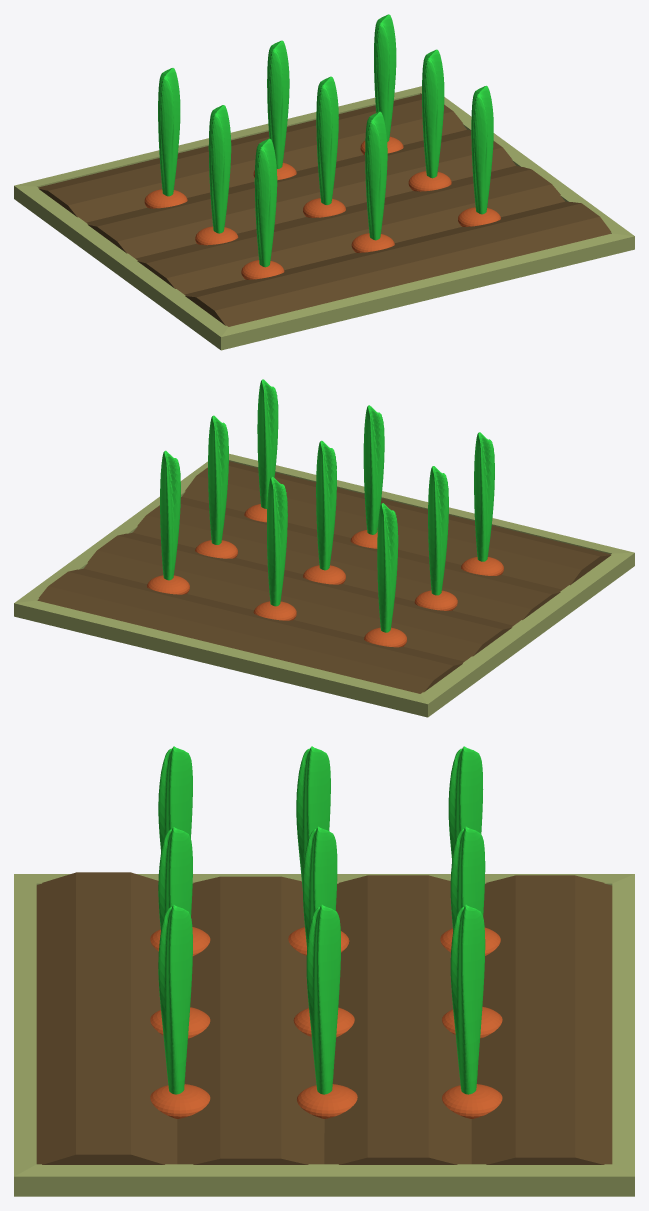
Rendered from морковка в грядке.fbx.
The picture shows the model from 3 angles, top to bottom: view 1: azimuth 30°, elevation 25°; view 2: azimuth 150°, elevation 25°; view 3: azimuth 270°, elevation 25°; orthographic projection. The views are drawn at different scales.
Visible parts, largest first — view 1: Cube, Cube.001, Sphere.009, Sphere.010, Sphere.001, Sphere.017, Sphere.006, Sphere.014, Sphere.013, Sphere.002, Sphere.005, Sphere.007 (+6 smaller); view 2: Cube, Cube.001, Sphere.017, Sphere.010, Sphere.001, Sphere.005, Sphere.006, Sphere.013, Sphere.014, Sphere.002, Sphere.009, Sphere.015 (+6 smaller); view 3: Cube, Cube.001, Sphere.005, Sphere.009, Sphere.006, Sphere.014, Sphere.017, Sphere.001, Sphere.013, Sphere.002, Sphere.010, Sphere.007 (+5 smaller).
Boxes of the visible parts, bbox=[...] form: Cube: bbox=[38, 94, 611, 326]; Cube.001: bbox=[14, 86, 634, 350]; Sphere.009: bbox=[471, 85, 493, 214]; Sphere.010: bbox=[365, 111, 387, 240]; Sphere.001: bbox=[316, 76, 338, 204]; Sphere.017: bbox=[158, 68, 180, 196]; Sphere.006: bbox=[422, 49, 444, 178]; Sphere.014: bbox=[208, 105, 231, 233]; Sphere.013: bbox=[254, 138, 277, 267]; Sphere.002: bbox=[267, 40, 289, 168]; Sphere.005: bbox=[374, 14, 396, 141]; Sphere.007: bbox=[408, 171, 451, 191]; Cube: bbox=[38, 461, 610, 693]; Cube.001: bbox=[14, 453, 634, 717]; Sphere.017: bbox=[377, 503, 398, 632]; Sphere.010: bbox=[363, 405, 384, 534]; Sphere.001: bbox=[316, 440, 336, 570]; Sphere.005: bbox=[160, 450, 180, 580]; Sphere.006: bbox=[208, 415, 228, 544]; Sphere.013: bbox=[474, 432, 494, 561]; Sphere.014: bbox=[428, 466, 448, 595]; Sphere.002: bbox=[267, 476, 287, 606]; Sphere.009: bbox=[257, 379, 278, 508]; Sphere.015: bbox=[414, 590, 457, 610]; Cube: bbox=[36, 872, 612, 1164]; Cube.001: bbox=[14, 874, 634, 1196]; Sphere.005: bbox=[450, 904, 485, 1094]; Sphere.009: bbox=[158, 905, 192, 1094]; Sphere.006: bbox=[306, 904, 340, 1094]; Sphere.014: bbox=[296, 746, 330, 890]; Sphere.017: bbox=[448, 746, 483, 860]; Sphere.001: bbox=[303, 826, 337, 948]; Sphere.013: bbox=[158, 746, 192, 851]; Sphere.002: bbox=[450, 826, 485, 930]; Sphere.010: bbox=[158, 827, 192, 929]; Sphere.007: bbox=[297, 1084, 357, 1118].
Bounding box in the file's own units: 650 × 222 × 563.
